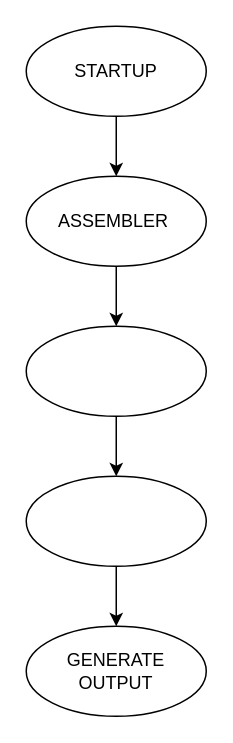
Image size: 233x743. Some labels were removed from this diagram. Here are the shapes that lost their labels. From the top down, the box of each, then its label:
(25, 325, 206, 416): CONSTRUCTOR
(25, 475, 206, 566): SOLVER
